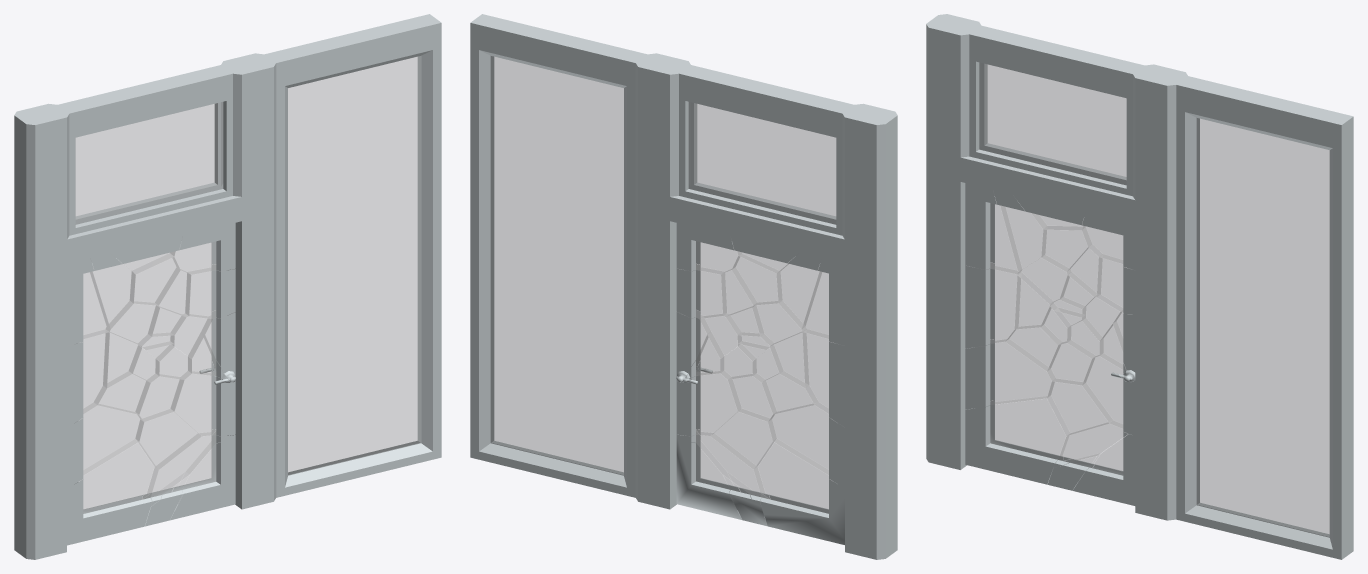
The model's file is Wall02_frac.fbx.
The picture shows the model from 3 angles, left to right: view 1: azimuth 30°, elevation 25°; view 2: azimuth 150°, elevation 25°; view 3: azimuth 330°, elevation 25°; orthographic projection.
Visible parts, largest first — view 1: Wall02, Door_cell.010, Door_cell.009, Door_cell.013, Door_cell.024, Door_cell.018, Door_cell.019, Door_cell.020, Door_cell.021, Door_cell.014, Door_cell.017, Door_cell.011 (+14 smaller); view 2: Wall02, Door_cell.010, Door_cell.009, Door_cell.013, Door_cell.024, Door_cell.018, Door_cell.019, Door_cell.020, Door_cell.021, Door_cell.014, Door_cell.017, Door_cell.011 (+14 smaller); view 3: Wall02, Door_cell.010, Door_cell.009, Door_cell.018, Door_cell.019, Door_cell.013, Door_cell.024, Door_cell.014, Door_cell.017, Door_cell.020, Door_cell.021, Door_cell.011 (+14 smaller).
Boxes of the visible parts, box(x1,y1,x2,y2) form: Wall02: box(14, 14, 441, 559); Door_cell.010: box(67, 442, 157, 545); Door_cell.009: box(67, 403, 143, 488); Door_cell.013: box(170, 432, 235, 520); Door_cell.024: box(171, 371, 235, 436); Door_cell.018: box(67, 330, 109, 427); Door_cell.019: box(67, 258, 110, 345); Door_cell.020: box(170, 223, 235, 274); Door_cell.021: box(185, 264, 235, 318); Door_cell.014: box(136, 409, 201, 469); Door_cell.017: box(90, 253, 135, 328); Door_cell.011: box(142, 429, 225, 506); Wall02: box(470, 14, 897, 559); Door_cell.010: box(754, 442, 844, 544); Door_cell.009: box(768, 402, 844, 487); Door_cell.013: box(676, 431, 742, 520); Door_cell.024: box(676, 371, 740, 436); Door_cell.018: box(803, 329, 844, 427); Door_cell.019: box(802, 258, 844, 345); Door_cell.020: box(676, 223, 741, 274); Door_cell.021: box(676, 264, 726, 318); Door_cell.014: box(711, 409, 776, 469); Door_cell.017: box(777, 253, 821, 328); Door_cell.011: box(686, 429, 769, 505); Wall02: box(926, 14, 1353, 559); Door_cell.010: box(965, 398, 1066, 484); Door_cell.009: box(965, 339, 1055, 409); Door_cell.018: box(965, 262, 1020, 348); Door_cell.019: box(965, 183, 1021, 273); Door_cell.013: box(1072, 434, 1135, 505); Door_cell.024: box(1082, 353, 1135, 435); Door_cell.014: box(1047, 379, 1112, 435); Door_cell.017: box(993, 190, 1046, 271); Door_cell.020: box(1082, 212, 1135, 269); Door_cell.021: box(1097, 254, 1135, 314); Door_cell.011: box(1054, 421, 1128, 467).
Bounding box in the file's own units: 400 × 400 × 31.54.
